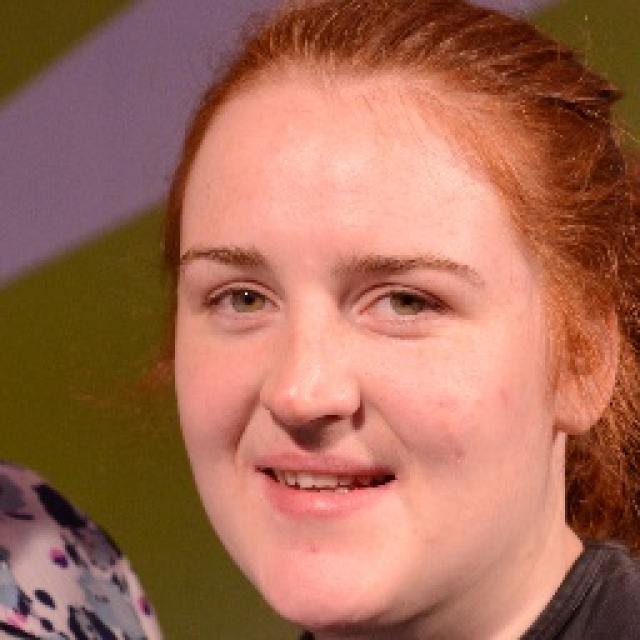earlobe: (558, 248, 625, 436)
